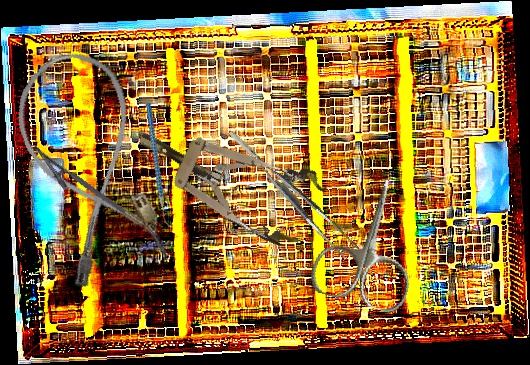Cannula: (2, 40, 175, 292)
Chopper: (124, 102, 196, 230)
Iris Scissors: (306, 166, 436, 317)
Needle Holder: (23, 144, 127, 227)
Speculum: (124, 98, 331, 255)
Tissue Forceps: (228, 112, 360, 271)
